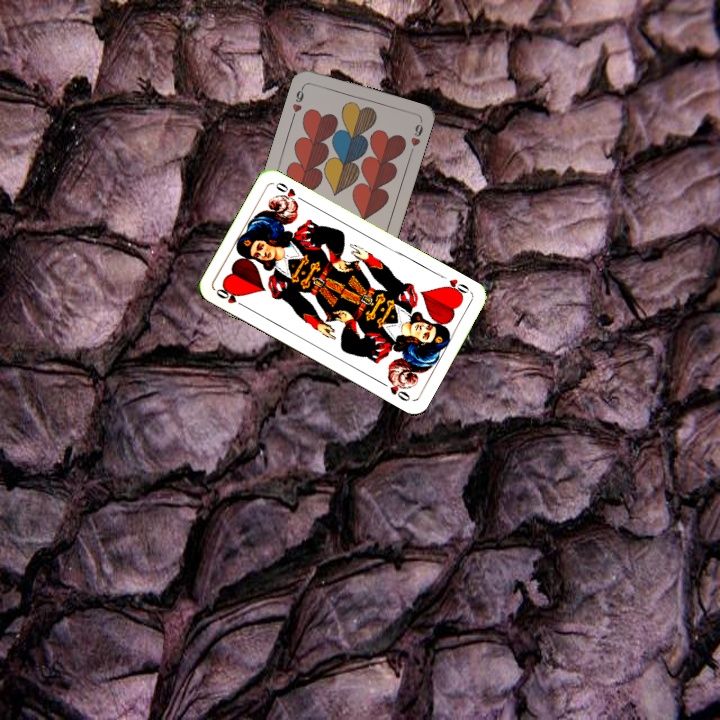H9: (288, 82, 307, 122)
HO: (212, 282, 249, 311), (440, 275, 473, 300)
